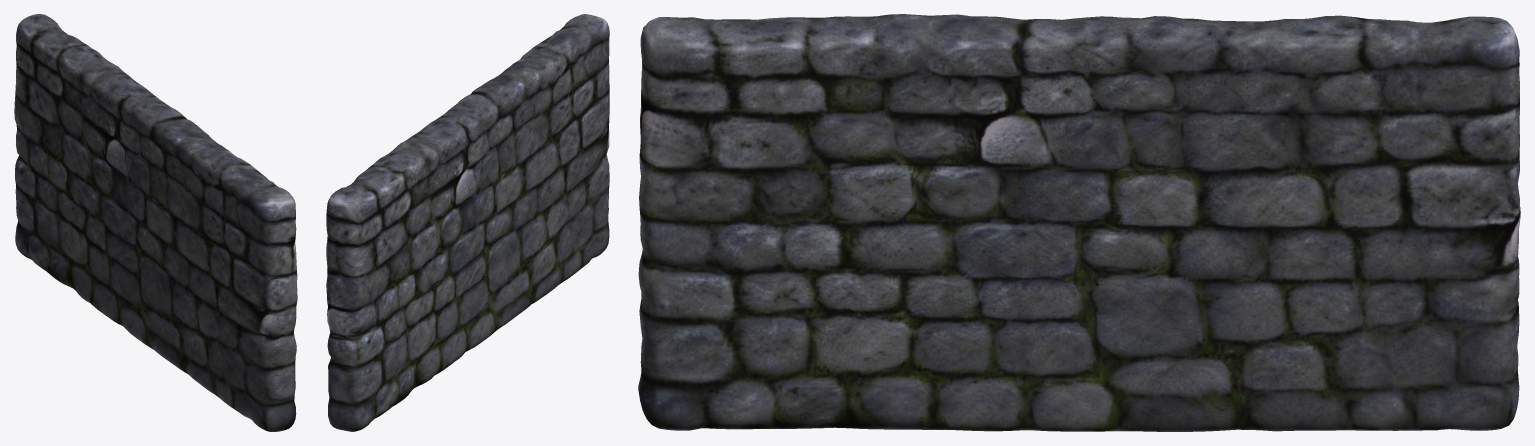
The model's file is Wall 2.fbx.
The picture shows the model from 3 angles, left to right: view 1: azimuth 30°, elevation 25°; view 2: azimuth 150°, elevation 25°; view 3: azimuth 270°, elevation 25°; orthographic projection. The views are drawn at different scales.
Visible parts, largest first — view 1: mesh; view 2: mesh; view 3: mesh.
Boxes of the visible parts, left/top/right/bottom form: mesh: left=14, top=14, right=297, bottom=431; mesh: left=326, top=14, right=609, bottom=431; mesh: left=638, top=14, right=1520, bottom=431.
Bounding box in the file's own units: 8.35 × 49.97 × 99.95.
